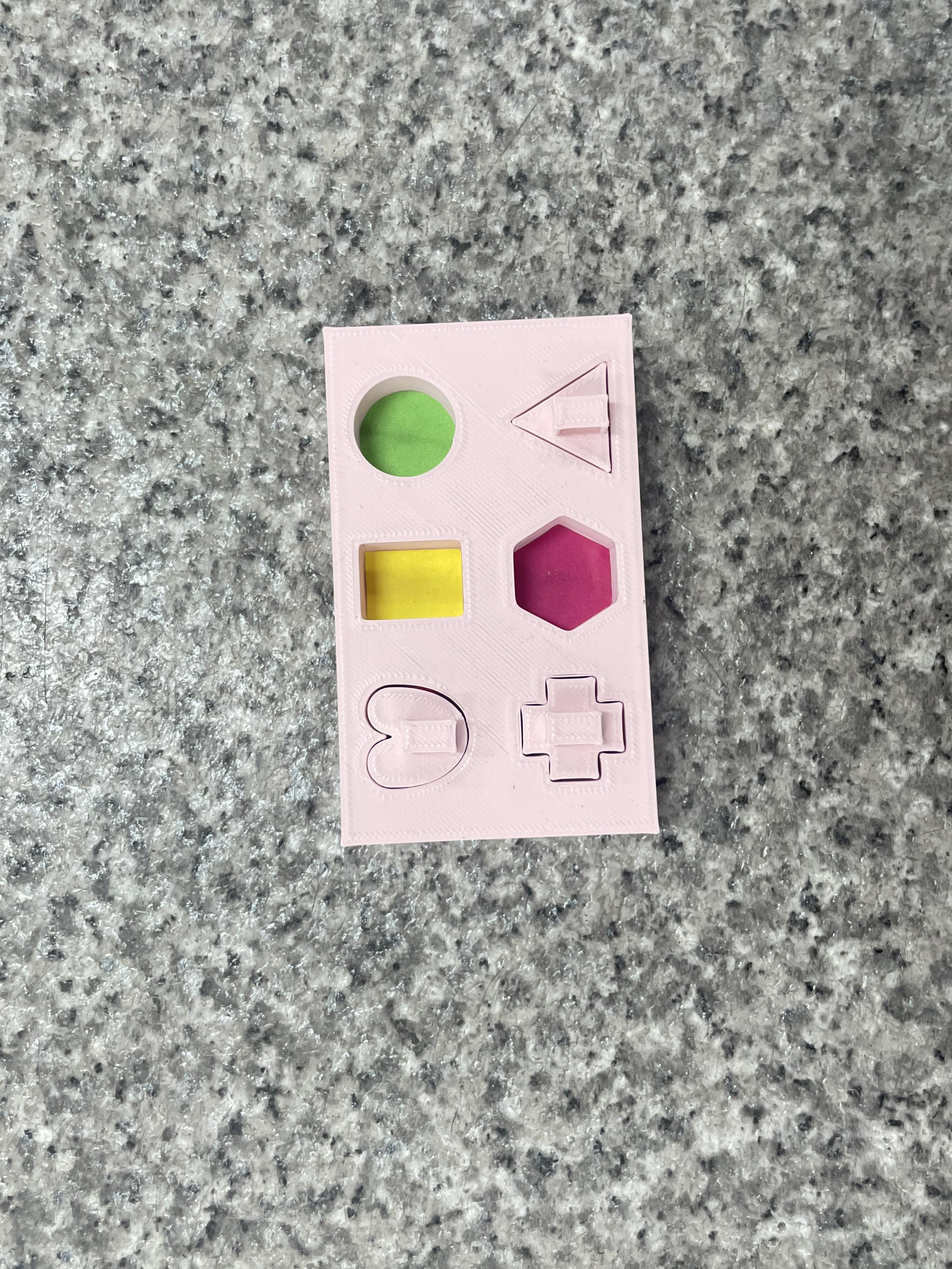unsolved: (309, 293, 684, 873)
